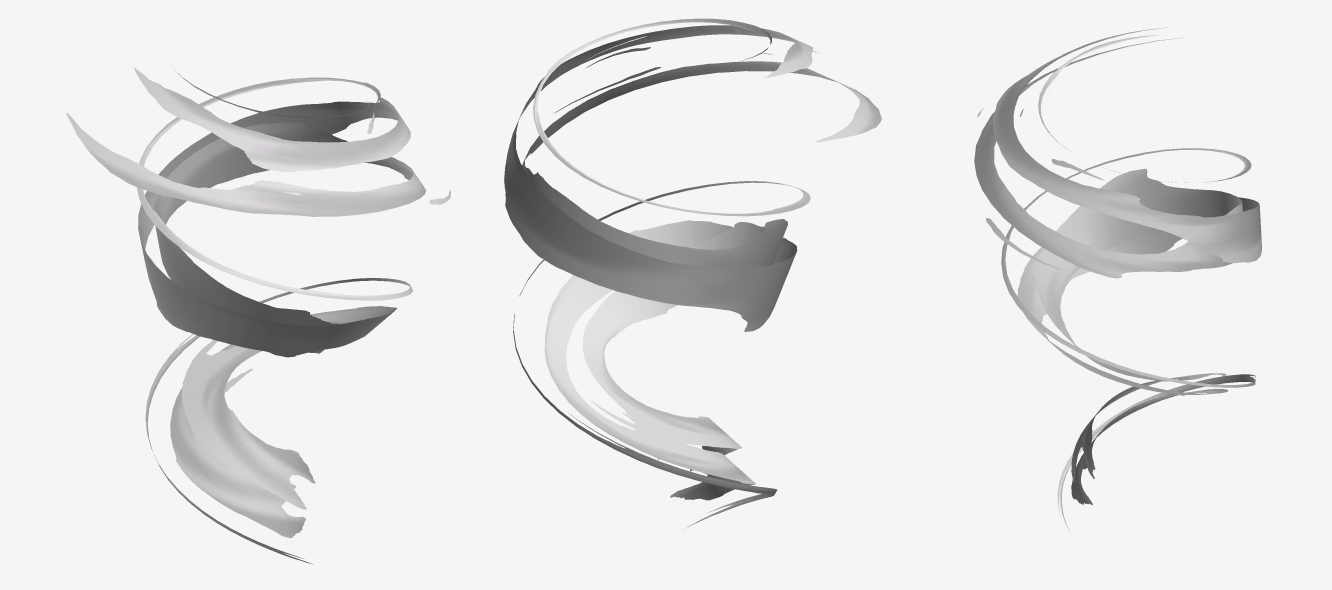
3 views of the same model, side by side, from view 1: azimuth 30°, elevation 25°; view 2: azimuth 150°, elevation 25°; view 3: azimuth 270°, elevation 25° (orthographic). The views are drawn at different scales.
Visible parts, largest first — view 1: Helix001; view 2: Helix001; view 3: Helix001.
Part boxes in pixels (box(x1,y1,x2,y2)): Helix001: box(66, 65, 450, 564); Helix001: box(504, 18, 881, 530); Helix001: box(974, 27, 1261, 537).
Size of the model in its own units: 42.48 by 41.38 by 60.28.
